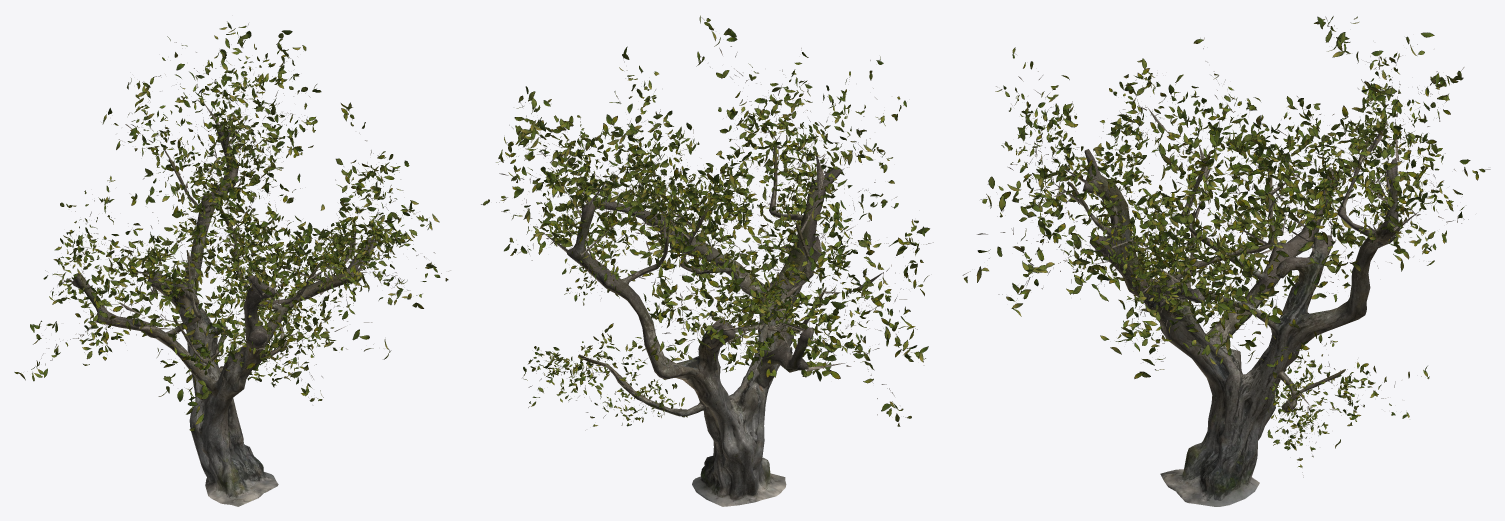
The model's file is island_tree_01.glb.
The picture shows the model from 3 angles, left to right: view 1: azimuth 30°, elevation 25°; view 2: azimuth 150°, elevation 25°; view 3: azimuth 270°, elevation 25°; orthographic projection. The views are drawn at different scales.
Visible parts, largest first — view 1: island_tree_01_LOD0; view 2: island_tree_01_LOD0; view 3: island_tree_01_LOD0.
Boxes of the visible parts, x1,y1,x2,y2 form: island_tree_01_LOD0: [14, 21, 450, 506]; island_tree_01_LOD0: [481, 15, 933, 506]; island_tree_01_LOD0: [962, 16, 1490, 506].
Bounding box in the file's own units: 4.72 × 4.98 × 4.74.
Materials: 3 (3 with a texture image).
